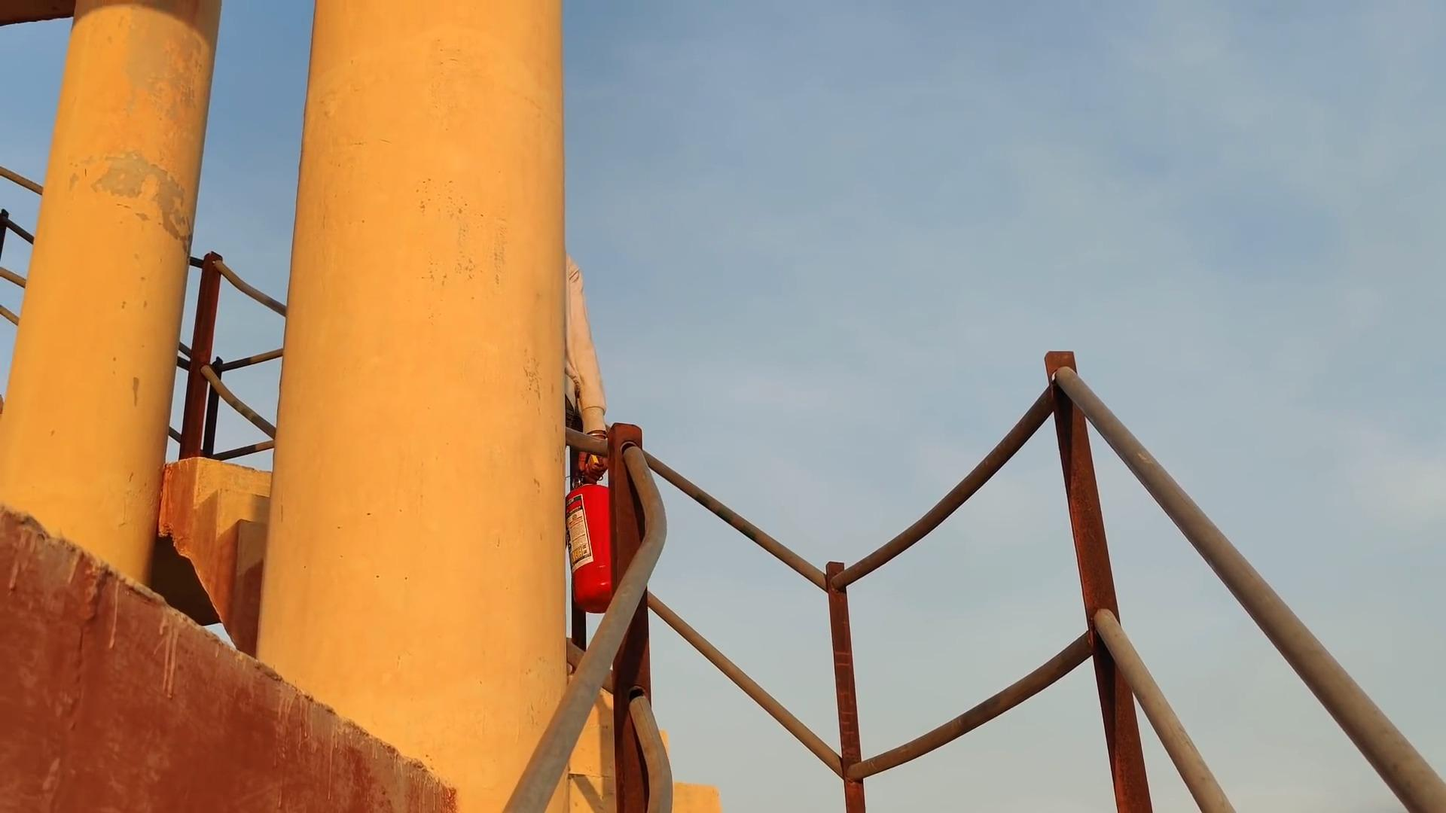FireExtinguisher: (556, 450, 641, 618)
not: (0, 504, 494, 813)
